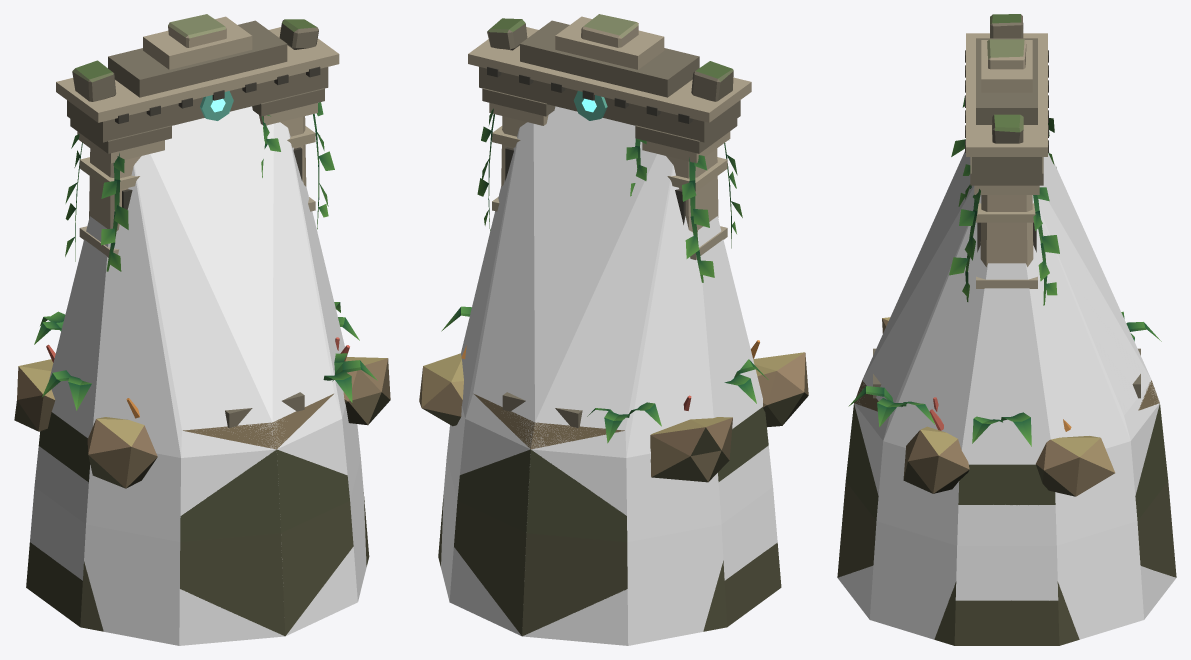
Rendered from ancient_sunken_bell_shrine.glb.
3 renders of one model, left to right at view 1: azimuth 30°, elevation 25°; view 2: azimuth 150°, elevation 25°; view 3: azimuth 270°, elevation 25°, orthographic. The views are drawn at different scales.
Visible parts, largest first — view 1: col_bellshrine_base, AncientSunkenBellShrine; view 2: col_bellshrine_base, AncientSunkenBellShrine; view 3: col_bellshrine_base, AncientSunkenBellShrine.
Part boxes in pixels (x1,y1,x2,y2): col_bellshrine_base: [30, 106, 366, 645]; AncientSunkenBellShrine: [14, 14, 390, 636]; col_bellshrine_base: [441, 106, 777, 645]; AncientSunkenBellShrine: [419, 14, 808, 636]; col_bellshrine_base: [837, 151, 1176, 639]; AncientSunkenBellShrine: [837, 14, 1176, 645].
Bounding box in the file's own units: 5.8 × 9.86 × 5.72.
